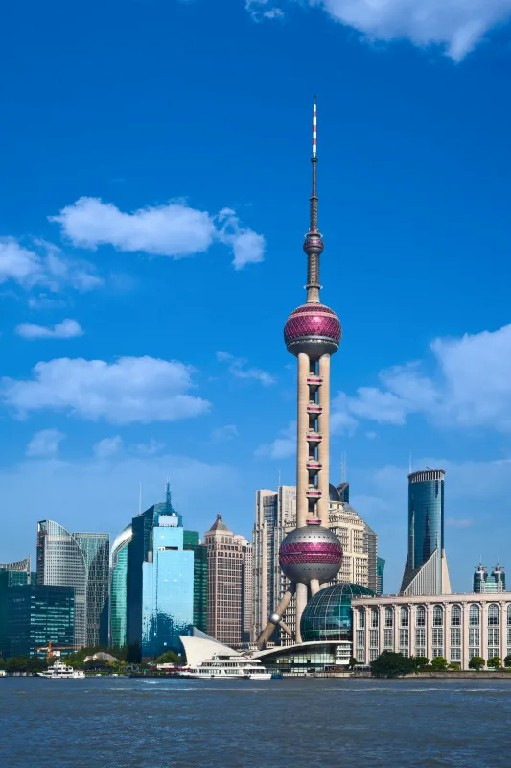Oriental: (257, 97, 344, 644)
